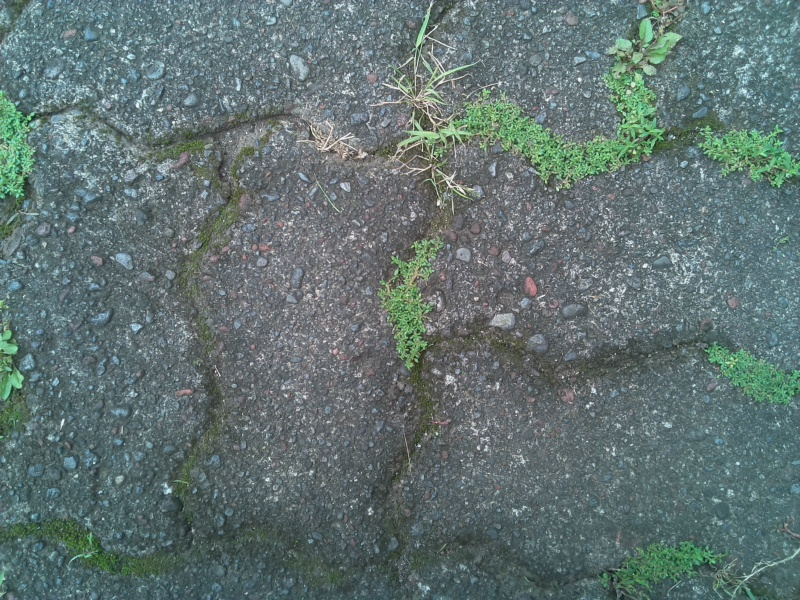Weed: (448, 92, 670, 184), (391, 25, 471, 173), (374, 243, 448, 364), (699, 120, 800, 194), (597, 541, 722, 600), (701, 341, 800, 415), (2, 82, 47, 205), (612, 12, 682, 78), (1, 319, 32, 404)
